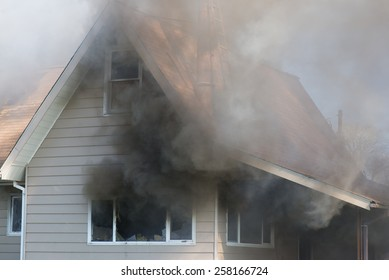smoke: (92, 21, 353, 229)
